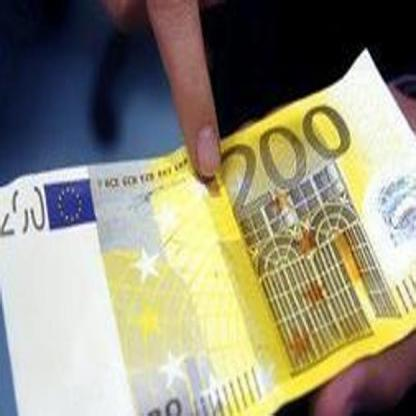billete: (0, 45, 414, 415)
